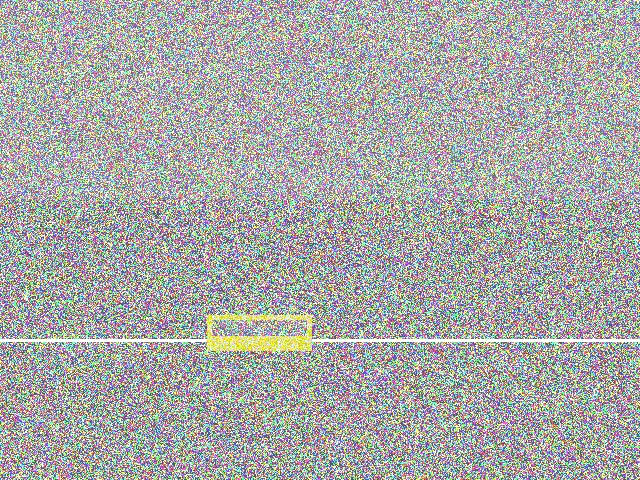bus: (61, 316, 165, 395)
